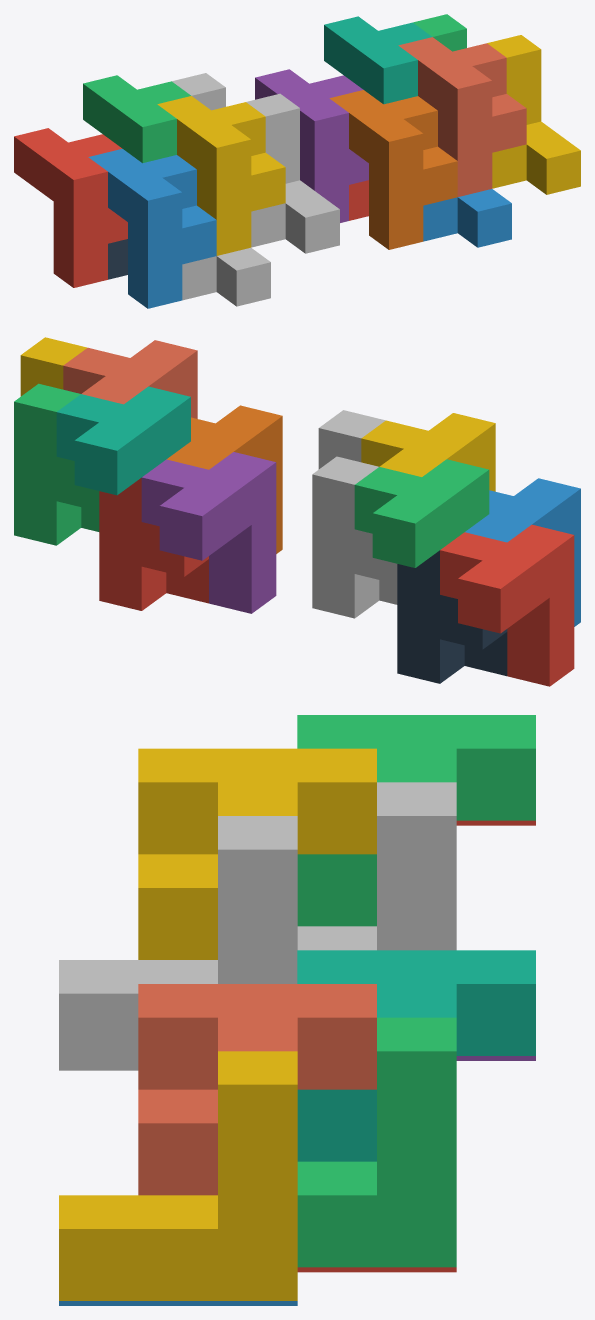
The model's file is tiling.obj.
The picture shows the model from 3 angles, top to bottom: view 1: azimuth 30°, elevation 25°; view 2: azimuth 150°, elevation 25°; view 3: azimuth 270°, elevation 25°; orthographic projection. The views are drawn at different scales.
Parts seen in each view (by area): view 1: copy_1_domain_6, copy_1_domain_2, copy_1_domain_4, copy_1_domain_8, copy_1_domain_1, copy_1_domain_5, copy_2_domain_8, copy_2_domain_4, copy_1_domain_3, copy_1_domain_7, copy_2_domain_2, copy_2_domain_6 (+4 smaller); view 2: copy_1_domain_5, copy_1_domain_1, copy_1_domain_3, copy_1_domain_7, copy_2_domain_3, copy_2_domain_7, copy_2_domain_1, copy_2_domain_5, copy_1_domain_8, copy_1_domain_4, copy_1_domain_6, copy_1_domain_2 (+2 smaller); view 3: copy_2_domain_8, copy_1_domain_4, copy_1_domain_8, copy_2_domain_7, copy_2_domain_4, copy_1_domain_3, copy_1_domain_7, copy_2_domain_3, copy_2_domain_6, copy_2_domain_5.
Boxes of the visible parts, x1,y1,x2,y2 form: copy_1_domain_6: (329, 90, 457, 249); copy_1_domain_2: (88, 149, 216, 308); copy_1_domain_4: (157, 96, 285, 255); copy_1_domain_8: (398, 37, 526, 196); copy_1_domain_1: (14, 128, 127, 287); copy_1_domain_5: (255, 69, 368, 222); copy_2_domain_8: (487, 35, 580, 194); copy_2_domain_4: (246, 93, 339, 253); copy_1_domain_3: (83, 75, 190, 163); copy_1_domain_7: (324, 16, 431, 104); copy_2_domain_2: (182, 247, 270, 306); copy_2_domain_6: (423, 189, 511, 247); copy_1_domain_5: (141, 452, 276, 613); copy_1_domain_1: (440, 524, 574, 686); copy_1_domain_3: (354, 459, 489, 567); copy_1_domain_7: (56, 386, 190, 495); copy_2_domain_3: (312, 456, 397, 618); copy_2_domain_7: (14, 383, 99, 545); copy_2_domain_1: (397, 550, 507, 683); copy_2_domain_5: (99, 478, 208, 610); copy_1_domain_8: (63, 340, 197, 418); copy_1_domain_4: (361, 413, 495, 491); copy_1_domain_6: (166, 405, 282, 553); copy_1_domain_2: (465, 478, 580, 626); copy_2_domain_8: (59, 1051, 297, 1300); copy_1_domain_4: (138, 748, 376, 959); copy_1_domain_8: (138, 984, 376, 1195); copy_2_domain_7: (297, 1017, 456, 1267); copy_2_domain_4: (59, 816, 297, 1065); copy_1_domain_3: (297, 715, 535, 926); copy_1_domain_7: (297, 950, 535, 1161); copy_2_domain_3: (297, 782, 456, 950); copy_2_domain_6: (59, 1301, 297, 1305); copy_2_domain_5: (297, 1267, 456, 1272).
Size of the model in its own units: 13 by 4 by 6.
